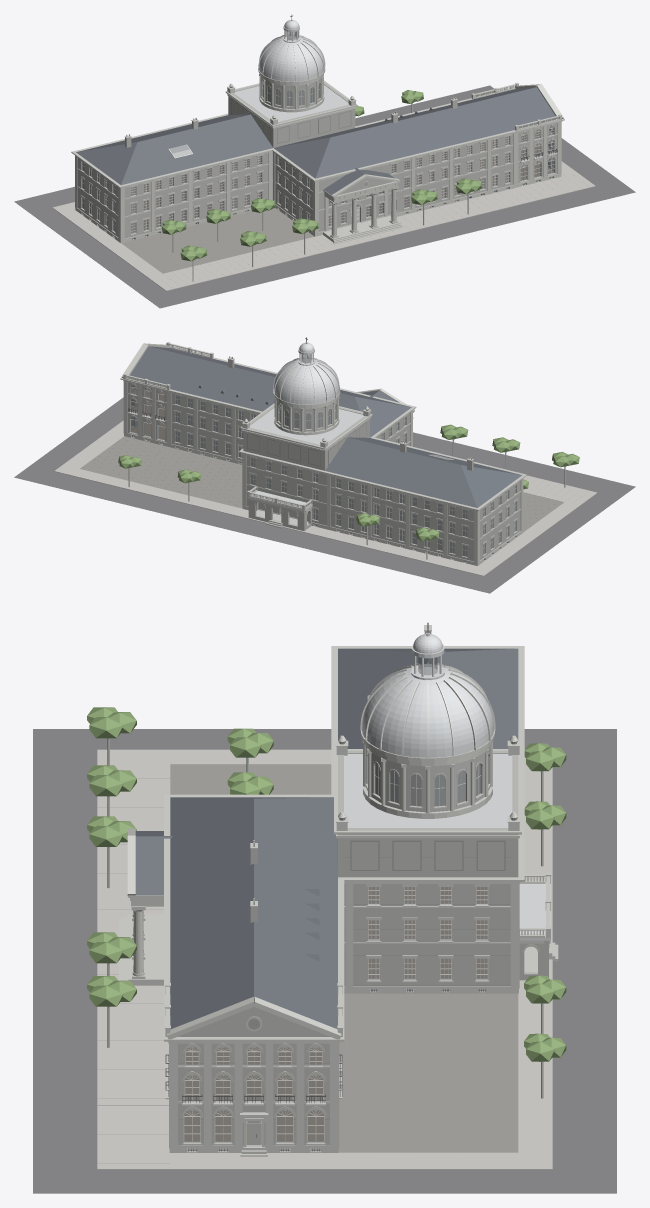
Rendered from clay-old-montreal-limestone-commercial-clay-v001.glb.
The picture shows the model from 3 angles, top to bottom: view 1: azimuth 30°, elevation 25°; view 2: azimuth 150°, elevation 25°; view 3: azimuth 270°, elevation 25°; orthographic projection. The views are drawn at different scales.
Parts seen in each view (by area): view 1: CLAY_WALL, CLAY_ROOF, CLAY_STONE, CLAY_ASPHALT, CLAY_CONCRETE, CLAY_COBBLE, CLAY_GLASS, CLAY_FRAME, CLAY_METAL, CLAY_PLANTING, CLAY_FLOOR, CLAY_TRIM; view 2: CLAY_WALL, CLAY_ASPHALT, CLAY_ROOF, CLAY_STONE, CLAY_CONCRETE, CLAY_COBBLE, CLAY_GLASS, CLAY_FRAME, CLAY_METAL, CLAY_PLANTING, CLAY_TRIM, CLAY_FLOOR (+2 smaller); view 3: CLAY_ASPHALT, CLAY_ROOF, CLAY_STONE, CLAY_CONCRETE, CLAY_WALL, CLAY_COBBLE, CLAY_METAL, CLAY_PLANTING, CLAY_GLASS, CLAY_FLOOR, CLAY_FRAME, CLAY_JOINT (+4 smaller).
Part boxes in pixels (x1=…): CLAY_WALL: x1=77, y1=77, x2=557, y2=240; CLAY_ROOF: x1=76, y1=87, x2=556, y2=195; CLAY_STONE: x1=71, y1=66, x2=564, y2=244; CLAY_ASPHALT: x1=14, y1=85, x2=635, y2=308; CLAY_CONCRETE: x1=52, y1=161, x2=595, y2=290; CLAY_COBBLE: x1=121, y1=208, x2=314, y2=273; CLAY_GLASS: x1=82, y1=31, x2=554, y2=238; CLAY_FRAME: x1=82, y1=83, x2=555, y2=234; CLAY_METAL: x1=234, y1=19, x2=348, y2=121; CLAY_PLANTING: x1=161, y1=90, x2=482, y2=261; CLAY_FLOOR: x1=131, y1=129, x2=553, y2=232; CLAY_TRIM: x1=258, y1=30, x2=325, y2=82; CLAY_WALL: x1=128, y1=359, x2=520, y2=562; CLAY_ASPHALT: x1=14, y1=397, x2=635, y2=593; CLAY_ROOF: x1=128, y1=346, x2=522, y2=507; CLAY_STONE: x1=120, y1=342, x2=526, y2=565; CLAY_CONCRETE: x1=54, y1=420, x2=597, y2=576; CLAY_COBBLE: x1=80, y1=436, x2=563, y2=531; CLAY_GLASS: x1=130, y1=354, x2=516, y2=561; CLAY_FRAME: x1=130, y1=387, x2=516, y2=556; CLAY_METAL: x1=250, y1=342, x2=364, y2=444; CLAY_PLANTING: x1=118, y1=424, x2=579, y2=541; CLAY_TRIM: x1=273, y1=353, x2=340, y2=404; CLAY_FLOOR: x1=131, y1=389, x2=164, y2=439; CLAY_ASPHALT: x1=33, y1=729, x2=616, y2=1193; CLAY_ROOF: x1=135, y1=648, x2=518, y2=1029; CLAY_STONE: x1=119, y1=625, x2=558, y2=1156; CLAY_CONCRETE: x1=97, y1=749, x2=552, y2=1169; CLAY_WALL: x1=178, y1=631, x2=548, y2=1152; CLAY_COBBLE: x1=170, y1=764, x2=518, y2=1152; CLAY_METAL: x1=344, y1=632, x2=512, y2=827; CLAY_PLANTING: x1=87, y1=707, x2=566, y2=1061; CLAY_GLASS: x1=184, y1=657, x2=487, y2=1150; CLAY_FLOOR: x1=184, y1=887, x2=487, y2=1143; CLAY_FRAME: x1=183, y1=695, x2=488, y2=1142; CLAY_JOINT: x1=98, y1=765, x2=511, y2=1163.
Size of the model in its own units: 128 by 42.5 by 68.
